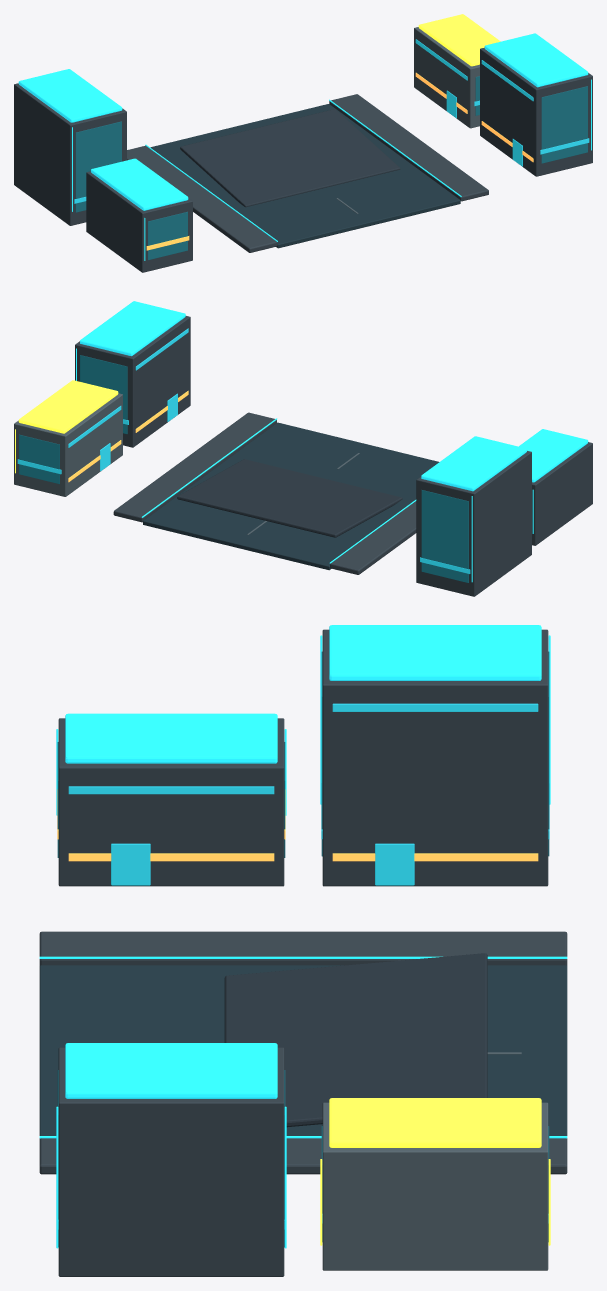
File: ramp_up_lod2.glb
3 views of the same model, one above another, from view 1: azimuth 30°, elevation 25°; view 2: azimuth 150°, elevation 25°; view 3: azimuth 270°, elevation 25° (orthographic). The views are drawn at different scales.
Visible parts, largest first — view 1: ND_Batch_ND_CityConcrete, ND_Batch_ND_RooftopMetal, ND_Batch_ND_WetAsphalt, ND_Batch_ND_CityCyanMuted, ND_Batch_ND_RoadEdge, ND_Batch_ND_DarkGlass, ND_Batch_ND_CityConcreteLight, ND_Batch_ND_PackageGold, ND_Batch_ND_NeonGlass, ND_Batch_ND_WarmWindow; view 2: ND_Batch_ND_CityConcrete, ND_Batch_ND_WetAsphalt, ND_Batch_ND_RooftopMetal, ND_Batch_ND_CityCyanMuted, ND_Batch_ND_DarkGlass, ND_Batch_ND_RoadEdge, ND_Batch_ND_CityConcreteLight, ND_Batch_ND_PackageGold, ND_Batch_ND_NeonGlass, ND_Batch_ND_WarmWindow; view 3: ND_Batch_ND_CityConcrete, ND_Batch_ND_CityCyanMuted, ND_Batch_ND_RooftopMetal, ND_Batch_ND_WetAsphalt, ND_Batch_ND_CityConcreteLight, ND_Batch_ND_RoadEdge, ND_Batch_ND_PackageGold, ND_Batch_ND_NeonGlass, ND_Batch_ND_WarmWindow, ND_Batch_ND_DarkGlass.
Boxes of the visible parts, box(x1,y1,x2,y2) form: ND_Batch_ND_CityConcrete: box(14, 47, 592, 272); ND_Batch_ND_RooftopMetal: box(180, 109, 400, 207); ND_Batch_ND_WetAsphalt: box(150, 104, 460, 248); ND_Batch_ND_CityCyanMuted: box(18, 33, 591, 260); ND_Batch_ND_RoadEdge: box(127, 94, 488, 252); ND_Batch_ND_DarkGlass: box(75, 76, 587, 260); ND_Batch_ND_CityConcreteLight: box(336, 27, 479, 213); ND_Batch_ND_PackageGold: box(418, 14, 500, 66); ND_Batch_ND_NeonGlass: box(74, 39, 589, 203); ND_Batch_ND_WarmWindow: box(146, 72, 533, 250); ND_Batch_ND_CityConcrete: box(75, 316, 592, 596); ND_Batch_ND_WetAsphalt: box(143, 422, 439, 570); ND_Batch_ND_RooftopMetal: box(177, 459, 402, 537); ND_Batch_ND_CityCyanMuted: box(76, 301, 588, 582); ND_Batch_ND_DarkGlass: box(19, 355, 468, 582); ND_Batch_ND_RoadEdge: box(113, 412, 416, 574); ND_Batch_ND_CityConcreteLight: box(14, 393, 359, 534); ND_Batch_ND_PackageGold: box(15, 380, 118, 473); ND_Batch_ND_NeonGlass: box(17, 328, 470, 573); ND_Batch_ND_WarmWindow: box(68, 390, 188, 482); ND_Batch_ND_CityConcrete: box(58, 629, 548, 1276); ND_Batch_ND_CityCyanMuted: box(39, 625, 567, 1248); ND_Batch_ND_RooftopMetal: box(224, 953, 487, 1127); ND_Batch_ND_WetAsphalt: box(39, 965, 567, 1139); ND_Batch_ND_CityConcreteLight: box(322, 1052, 548, 1270); ND_Batch_ND_RoadEdge: box(39, 931, 567, 1174); ND_Batch_ND_PackageGold: box(320, 1098, 550, 1245); ND_Batch_ND_NeonGlass: box(58, 703, 549, 1229); ND_Batch_ND_WarmWindow: box(57, 789, 538, 861); ND_Batch_ND_DarkGlass: box(57, 651, 549, 1246).
Bounding box in the file's own units: 40 × 9.1 × 20.
